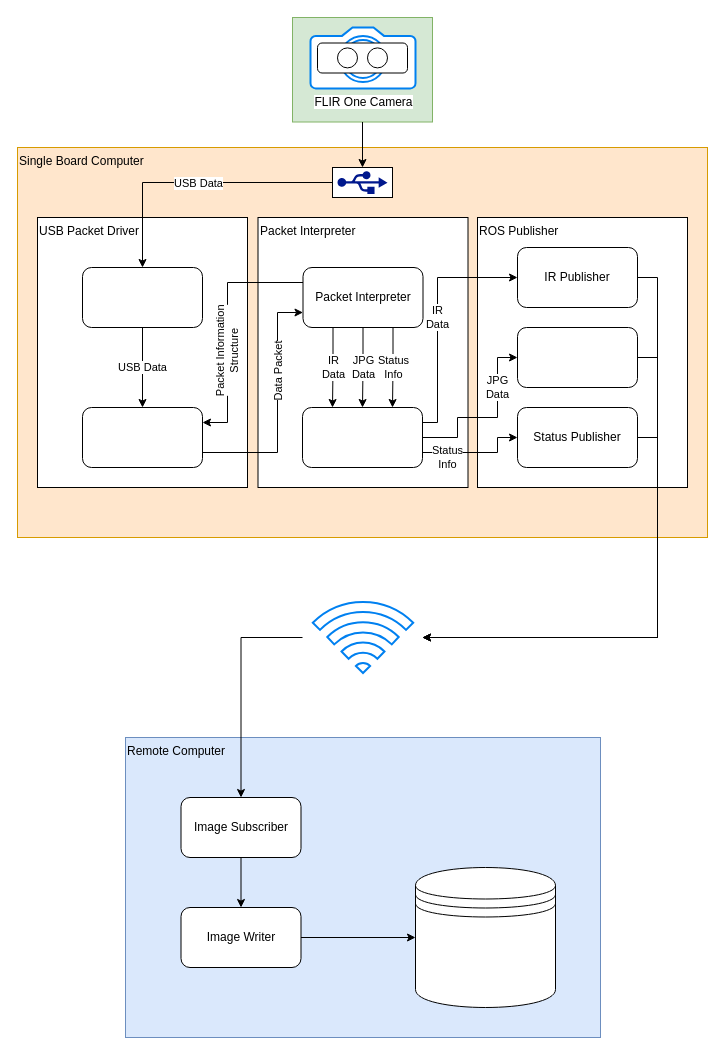
Image size: 725x1055. Some labels were removed from this diagram. Here are the shapes that lost their labels. From the top down, the centre of each, then its label:
At point (142, 297): "USB Raw Data Buffer".
At point (577, 357): "JPG Publisher".
At point (142, 437): "Data Packet Buffer".
At point (362, 437): "Data Validation".
At point (485, 937): "Image Database".
